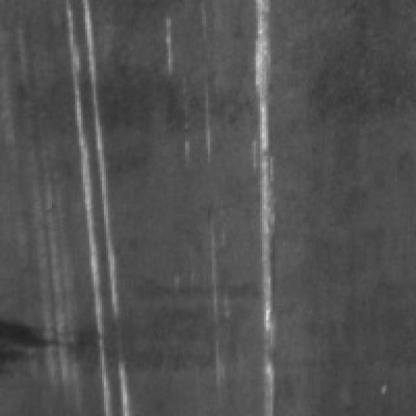inclusion: (6, 314, 102, 376)
scratches: (64, 0, 132, 406), (252, 0, 286, 410)
